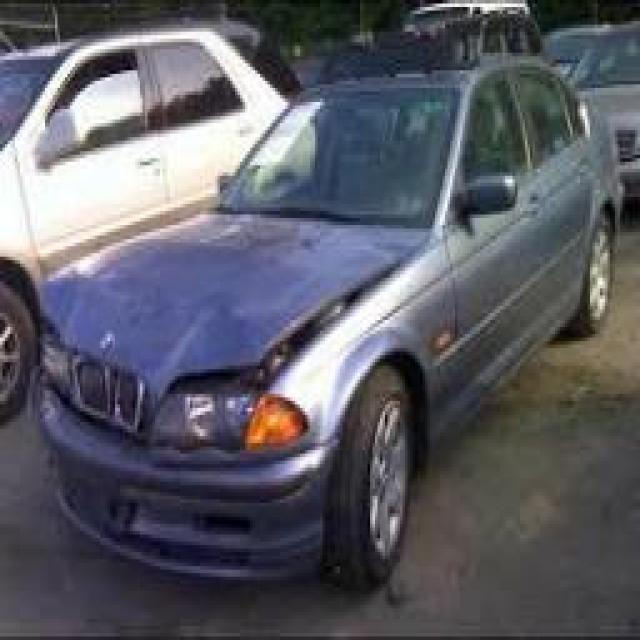rapairable: (182, 294, 287, 399)
